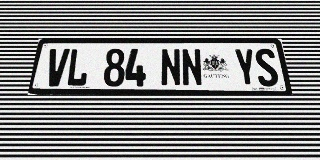4: (125, 49, 146, 86)
8: (103, 49, 126, 86)
L: (65, 49, 90, 86)
N: (181, 49, 203, 86), (161, 49, 181, 86)
S: (254, 49, 280, 86)
V: (44, 49, 70, 86)
Y: (233, 49, 258, 86)
